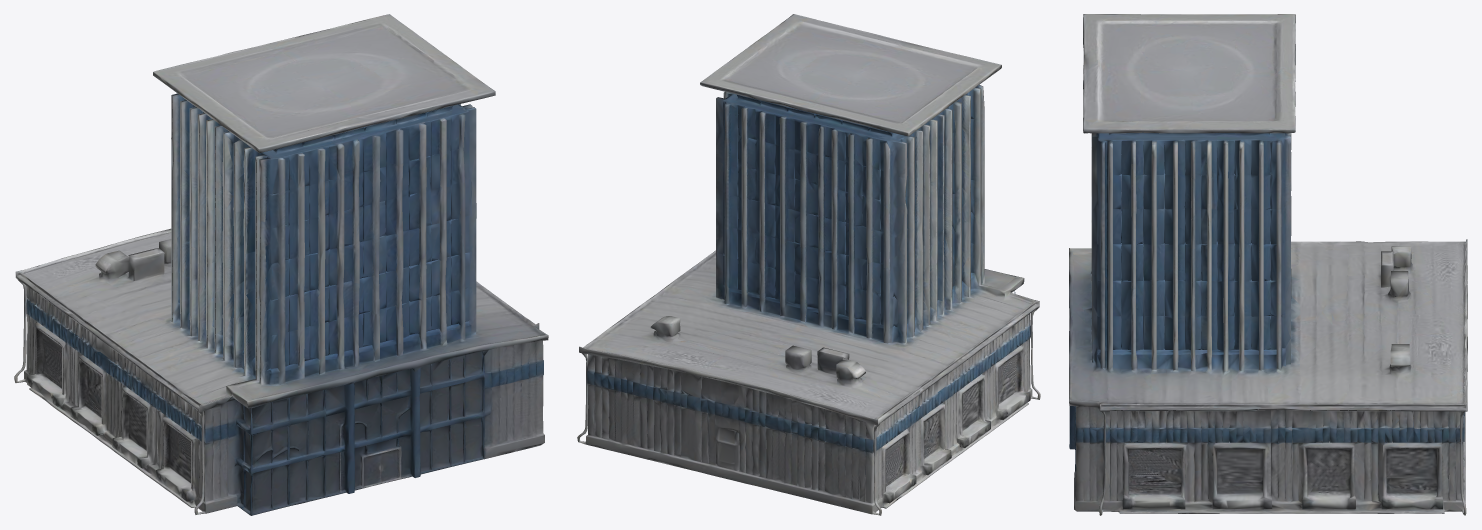
File: empresa_f3.glb
The picture shows the model from 3 angles, left to right: view 1: azimuth 30°, elevation 25°; view 2: azimuth 150°, elevation 25°; view 3: azimuth 270°, elevation 25°; orthographic projection. The views are drawn at different scales.
Visible parts, largest first — view 1: tripo_node_06586a53-d17e-40aa-a5fc-009a58c5932e; view 2: tripo_node_06586a53-d17e-40aa-a5fc-009a58c5932e; view 3: tripo_node_06586a53-d17e-40aa-a5fc-009a58c5932e.
Boxes of the visible parts, x1,y1,x2,y2 form: tripo_node_06586a53-d17e-40aa-a5fc-009a58c5932e: (14, 14, 548, 515); tripo_node_06586a53-d17e-40aa-a5fc-009a58c5932e: (577, 14, 1040, 515); tripo_node_06586a53-d17e-40aa-a5fc-009a58c5932e: (1069, 14, 1467, 515).
Bounding box in the file's own units: 1 × 1 × 1.
1 material, 1 textured.
